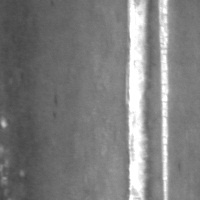inclusion: (48, 86, 62, 122)
scratches: (124, 1, 153, 200), (155, 1, 171, 200)
